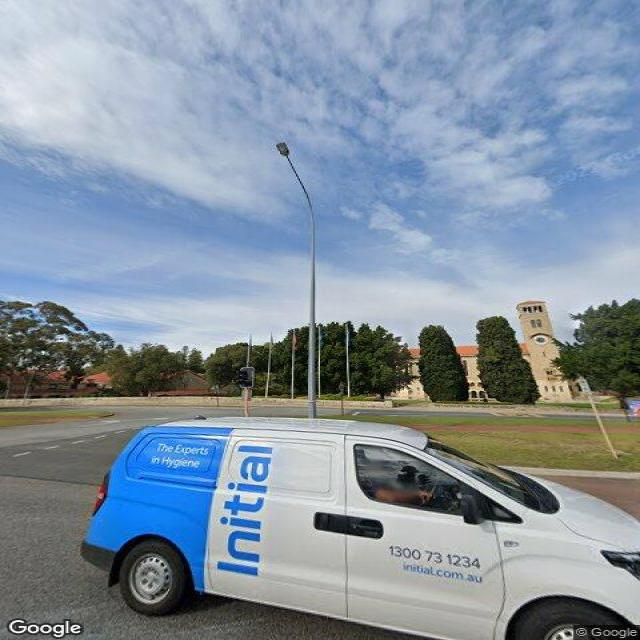steel-pole: (307, 211, 321, 420)
streetlight: (275, 141, 318, 223)
